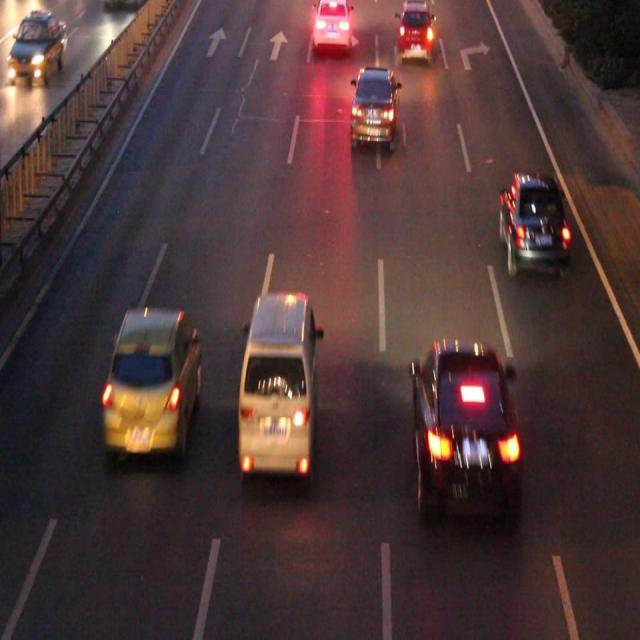car: (413, 346, 519, 513), (102, 312, 199, 449), (499, 174, 567, 270), (351, 70, 397, 140), (397, 1, 432, 58), (313, 1, 350, 45)
truck: (239, 296, 314, 472)
